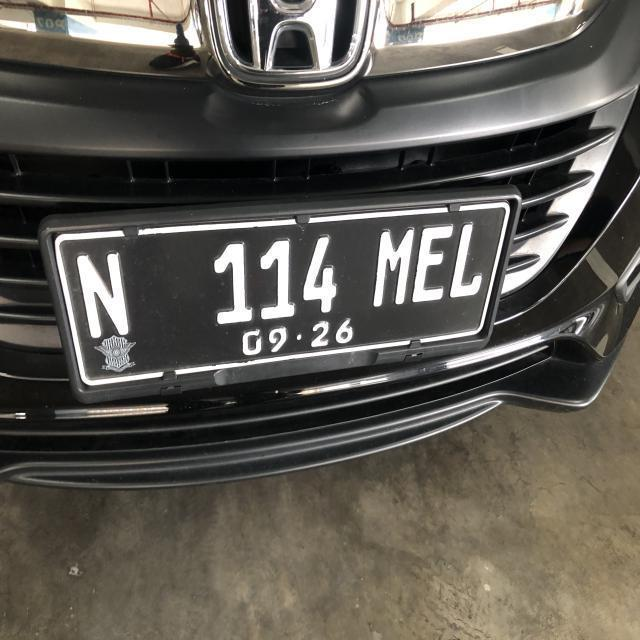1: (256, 234, 296, 324), (208, 241, 250, 326)
4: (302, 234, 340, 318)
E: (414, 220, 452, 316)
L: (452, 218, 487, 312)
M: (370, 224, 412, 308)
N: (73, 253, 137, 344)
